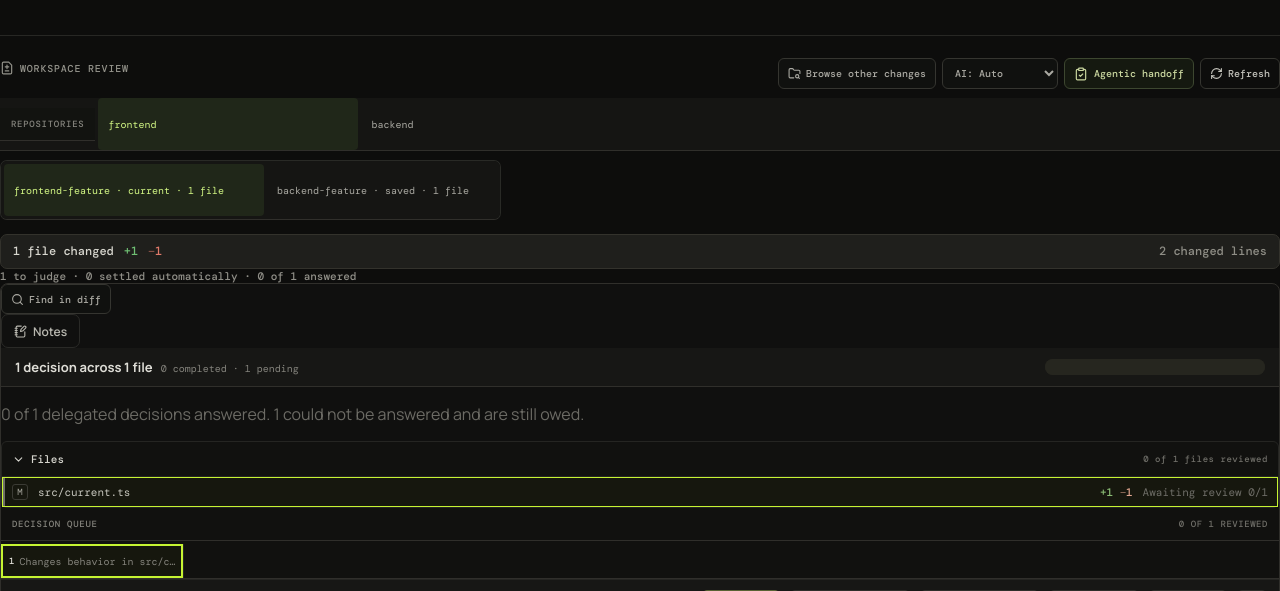
Scenario: WorkspaceDiffView decision queue › shows every conversation repository and branch diff before the unrelated repository catalog
The image size is (1280, 591).
Expected: the button "backend" is shown, [362, 98, 622, 150]
Expected: the button "backend-feature · saved · 1 file" is shown, [267, 164, 501, 216]
Click the button "Browse other changes": (857, 74) [778, 58, 936, 89]
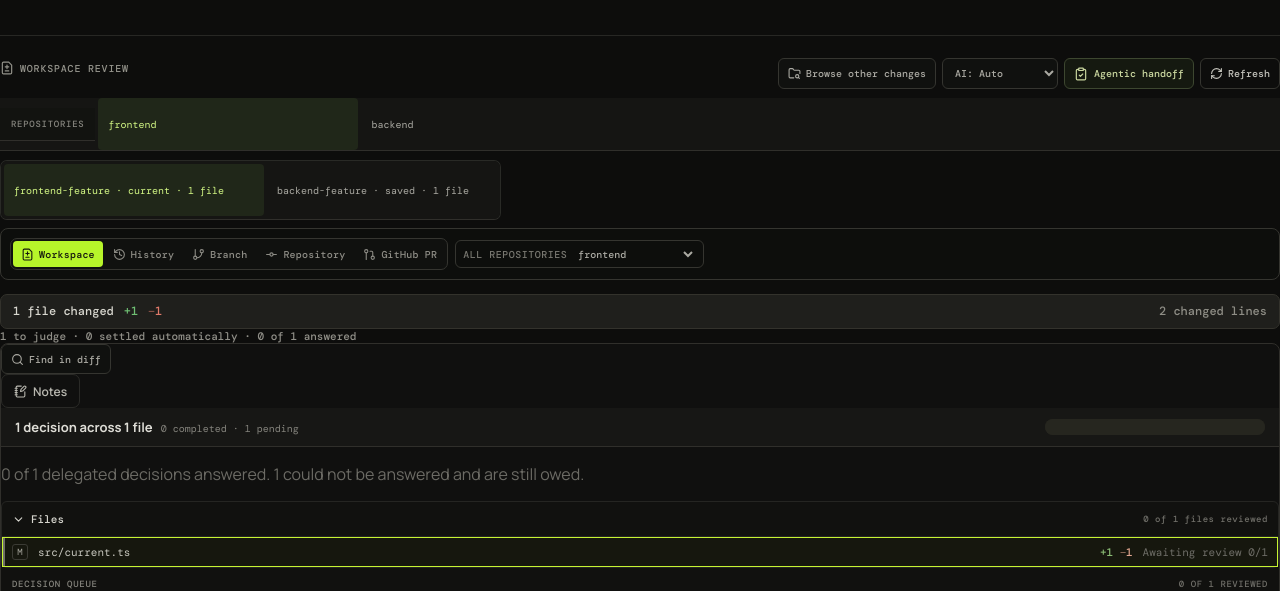
Expected: the element named "Review source" is shown, [10, 238, 448, 270]
